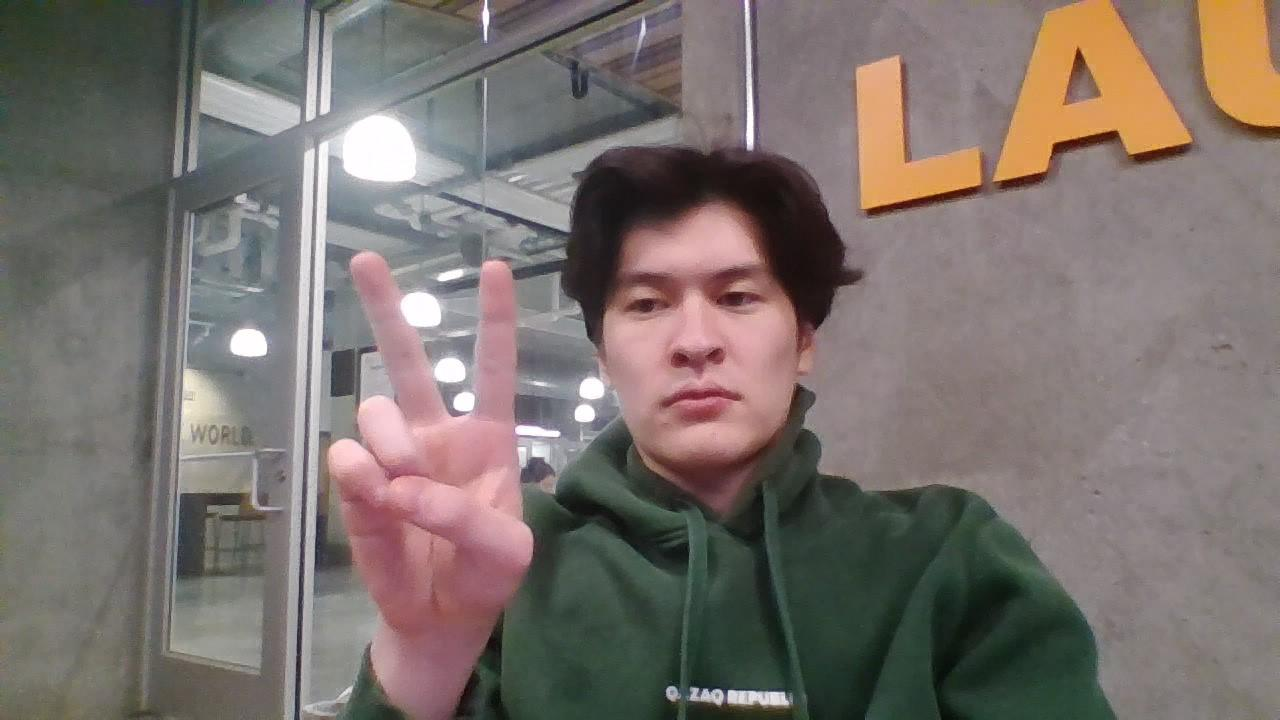peace: (328, 249, 537, 639)
